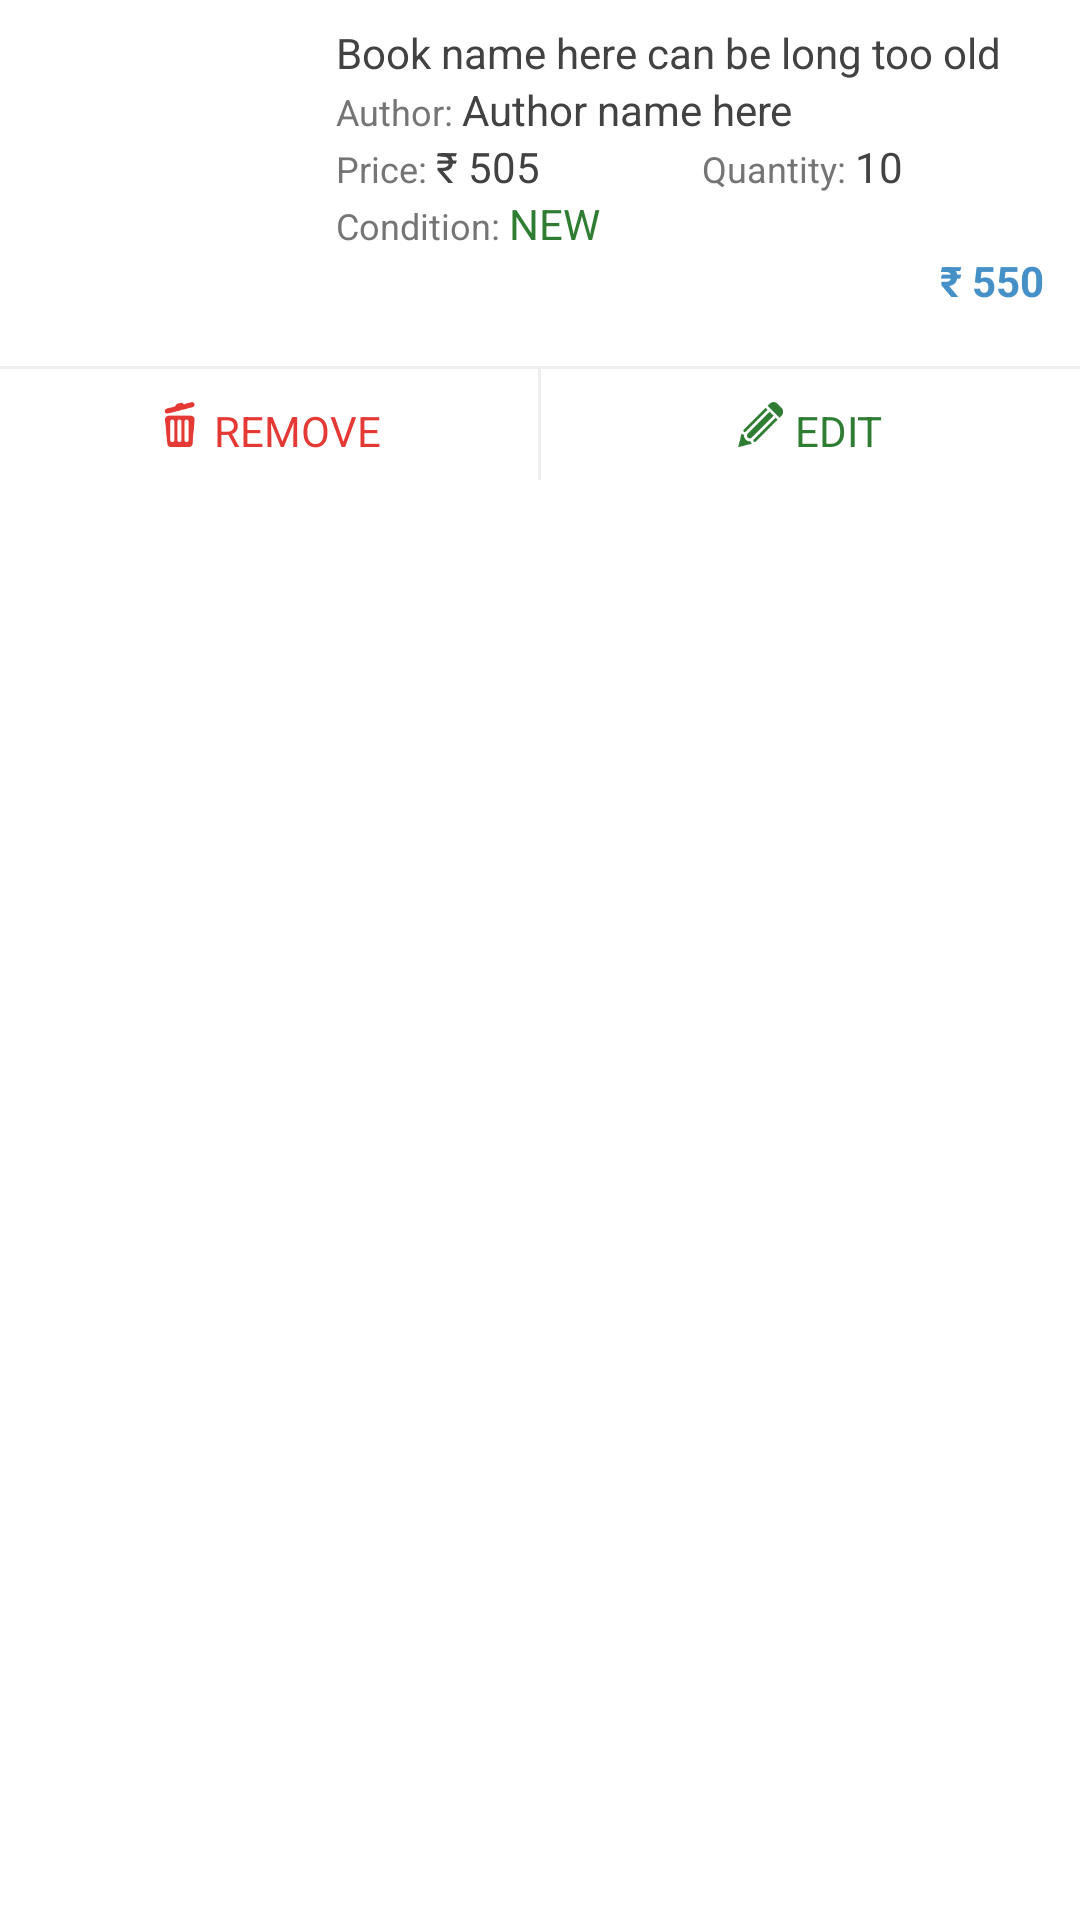

Icons on this 1080px x 1920px Android screen, each with the point to tap as point (x, y):
delete: point (179, 424)
